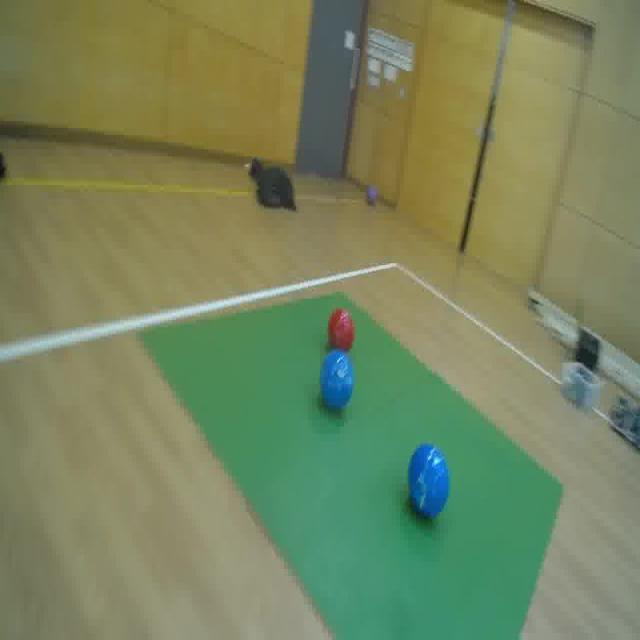blue_ball: (406, 439, 450, 521)
purple_ball: (319, 350, 355, 412), (366, 185, 377, 206)
red_ball: (327, 304, 357, 354)
